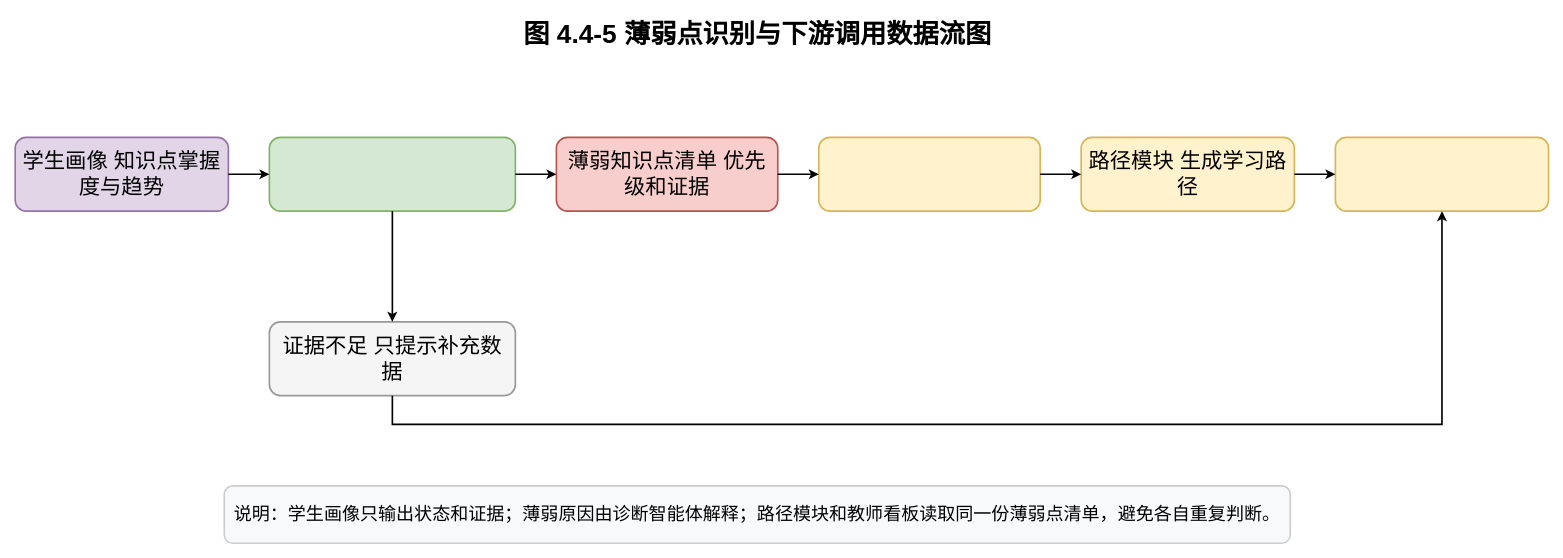
The diagram is 1563 pixels wide and 558 high, and some of its shapes have lost their labels. The centre of each missing label's shape, as x and y in pixels:
"教师看板 班级与学生下钻" goes at (x=1441, y=174).
"薄弱点识别服务 阈值 / 趋势 / 证据充分性" goes at (x=392, y=174).
"诊断智能体 分析薄弱原因" goes at (x=929, y=174).
